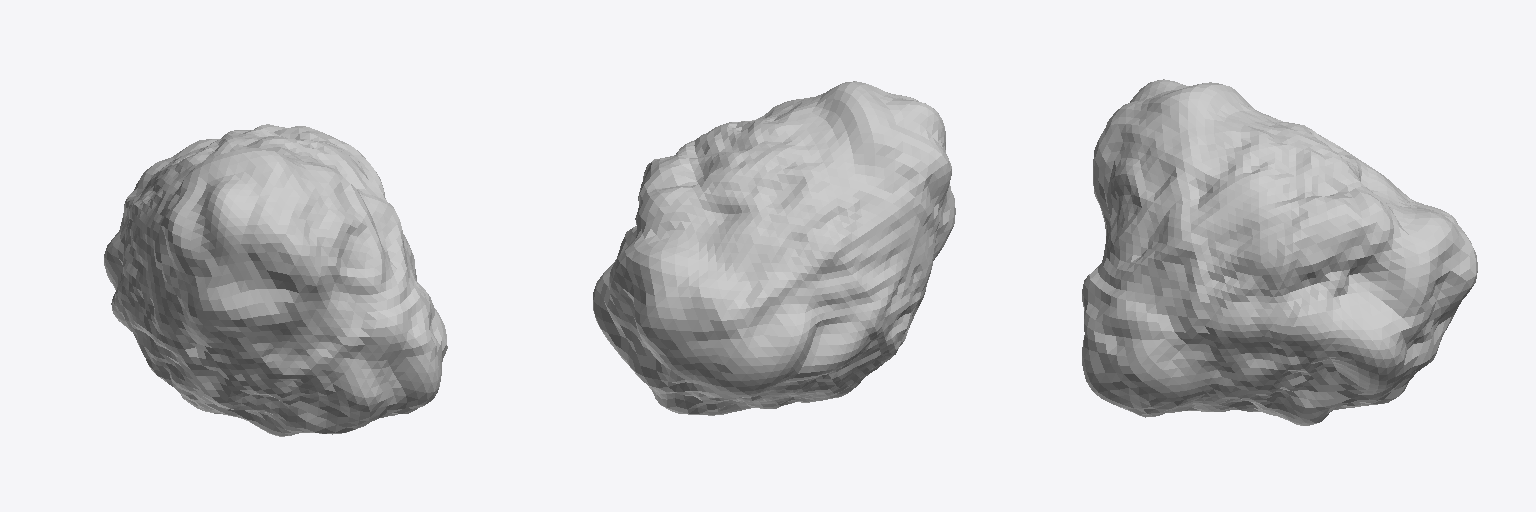
Rendered from egeria.obj.
3 renders of one model, left to right at view 1: azimuth 30°, elevation 25°; view 2: azimuth 150°, elevation 25°; view 3: azimuth 270°, elevation 25°, orthographic.
Parts seen in each view (by area): view 1: Egeria; view 2: Egeria; view 3: Egeria.
Boxes of the visible parts, <box> form: Egeria: <box>104,124,447,436</box>; Egeria: <box>593,81,955,415</box>; Egeria: <box>1082,79,1477,425</box>.
Bounding box in the file's own units: 2.11 × 2.23 × 2.73.